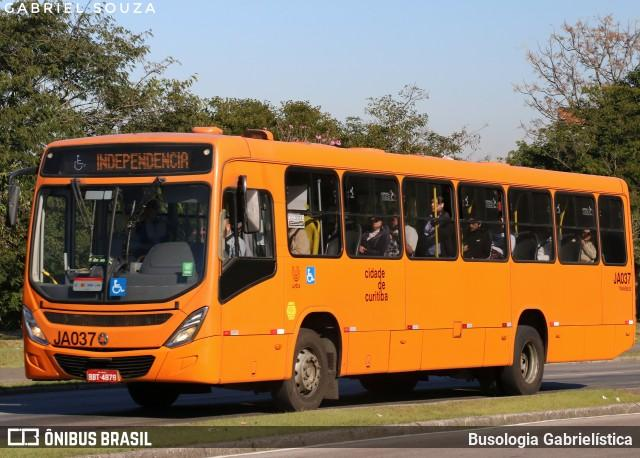INDEPENDENCIA: (91, 148, 192, 176)
